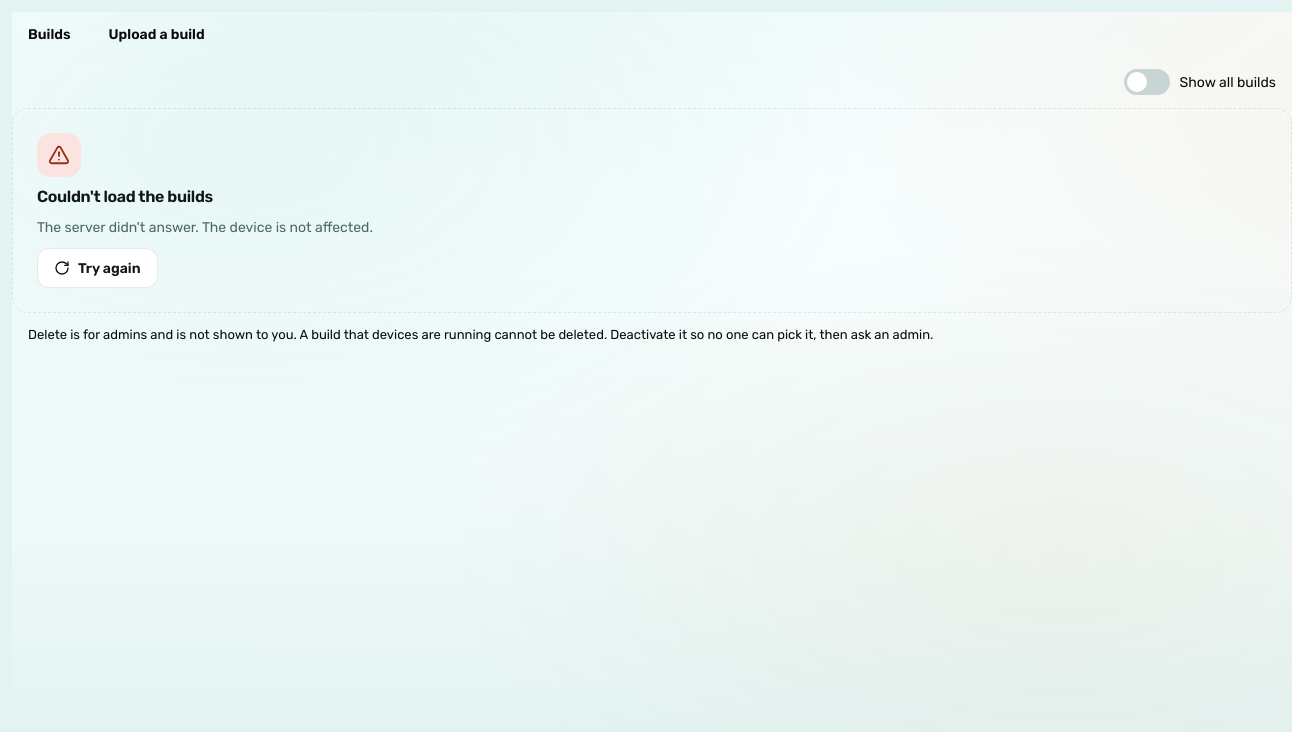
Test: OpsFirmware › B6 a failed list says so and retries
Click the button "Try again". click: point(97, 268)
box: x1=37 y1=248 x2=158 y2=288
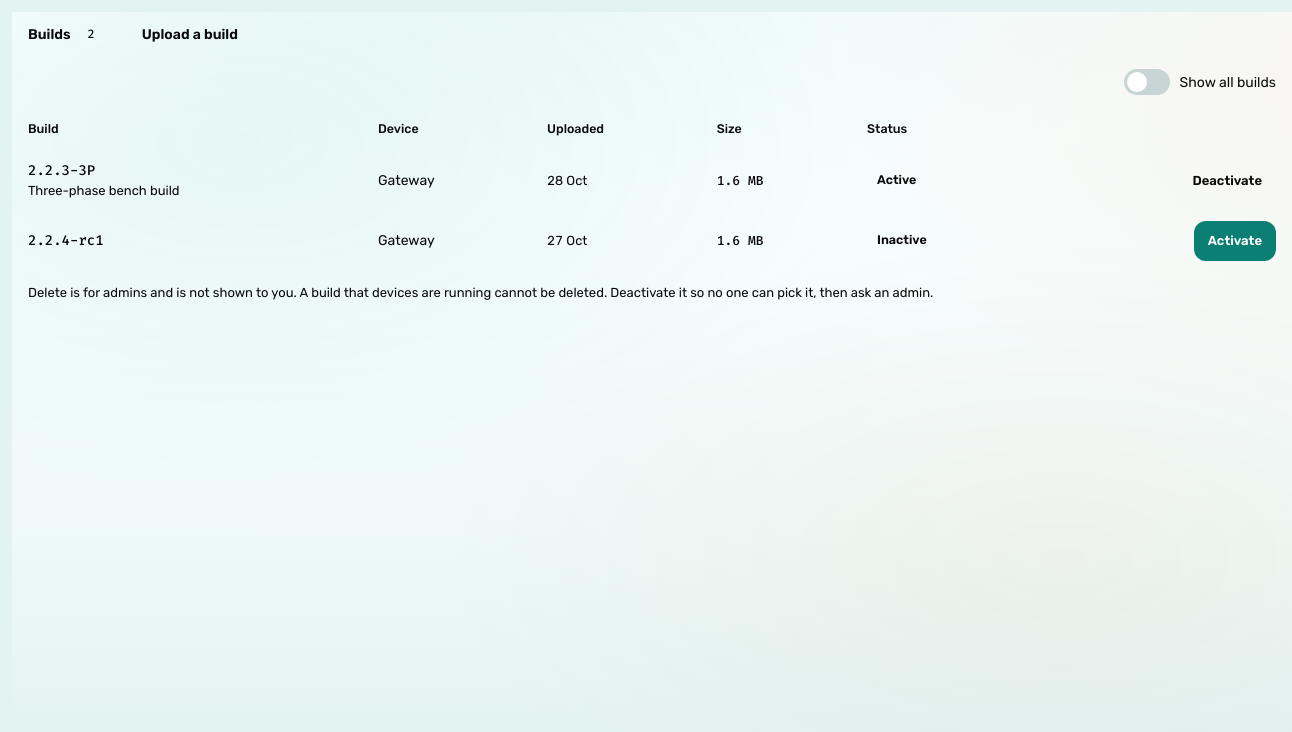
expect the text "2.2.3-3P" is shown: met, box x1=28 y1=161 x2=95 y2=180
